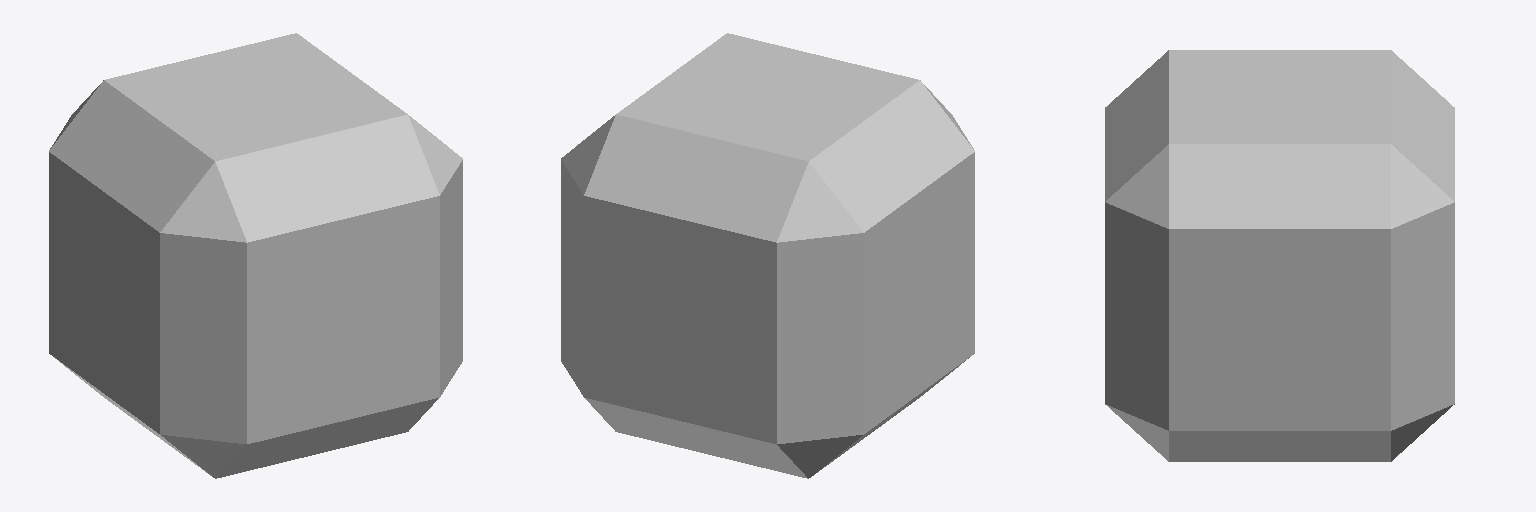
Rendered from pusher.obj.
The picture shows the model from 3 angles: view 1: azimuth 30°, elevation 25°; view 2: azimuth 150°, elevation 25°; view 3: azimuth 270°, elevation 25°; orthographic projection.
Parts seen in each view (by area): view 1: Cube.021; view 2: Cube.021; view 3: Cube.021.
Boxes of the visible parts, x1=… form: Cube.021: x1=49, y1=33, x2=462, y2=478; Cube.021: x1=561, y1=33, x2=974, y2=478; Cube.021: x1=1105, y1=50, x2=1454, y2=461.
Bounding box in the file's own units: 4.15 × 4.15 × 4.15.